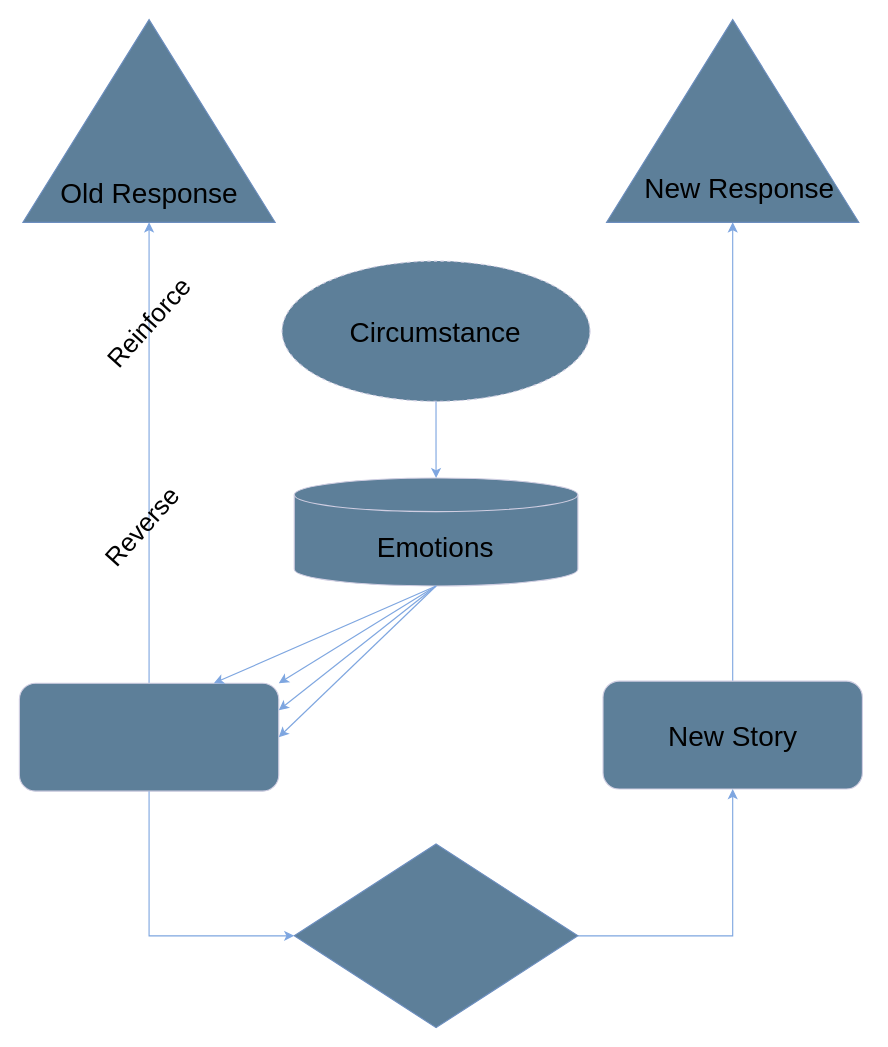
Some shapes in this 888 by 1047 pixel diagram are drawn without their labels. Here are the shapes that lost their labels. From the top down, the centre of each, then its label:
(x=148, y=736): Old Story
(x=435, y=935): GOSPEL
